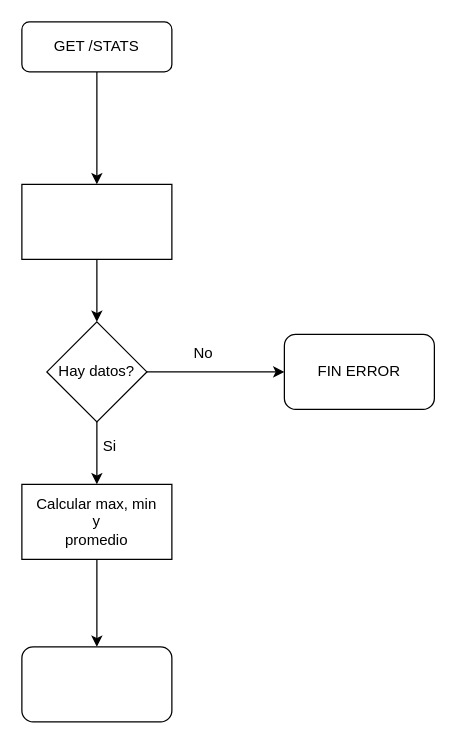
Some shapes in this 456 by 744 pixel diagram are drawn without their labels. Here are the shapes that lost their labels. From the top down, the centre of each, then its label:
At (96,221): "Consultar Stats en La base de datos".
At (96,684): "FIN OK".
